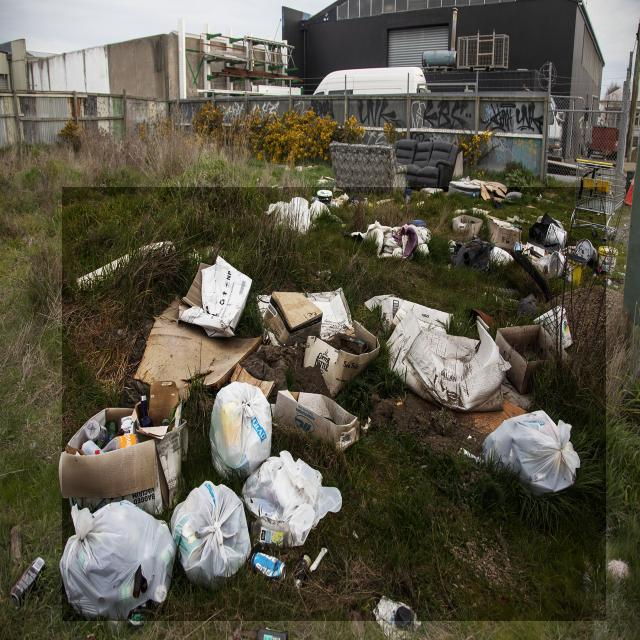dumping: (63, 187, 606, 621)
